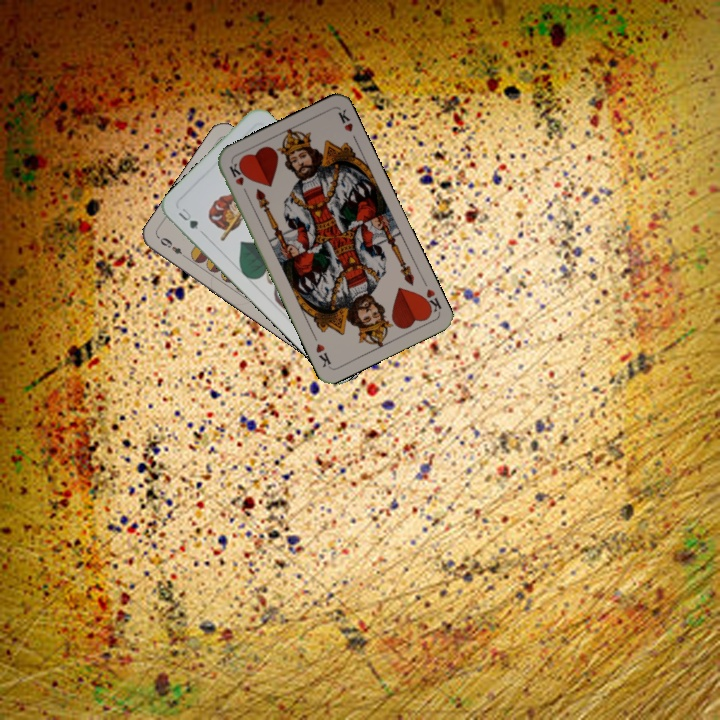E9: (156, 233, 190, 261)
GU: (174, 204, 206, 236)
HK: (225, 159, 251, 198), (417, 285, 444, 318)
